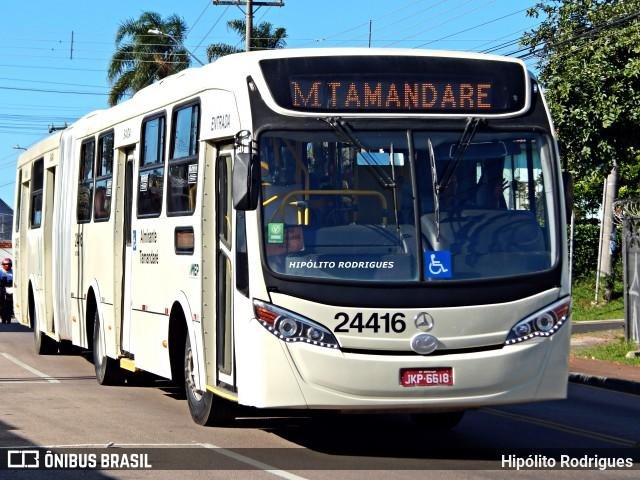TAMANDARE: (323, 72, 497, 114)
